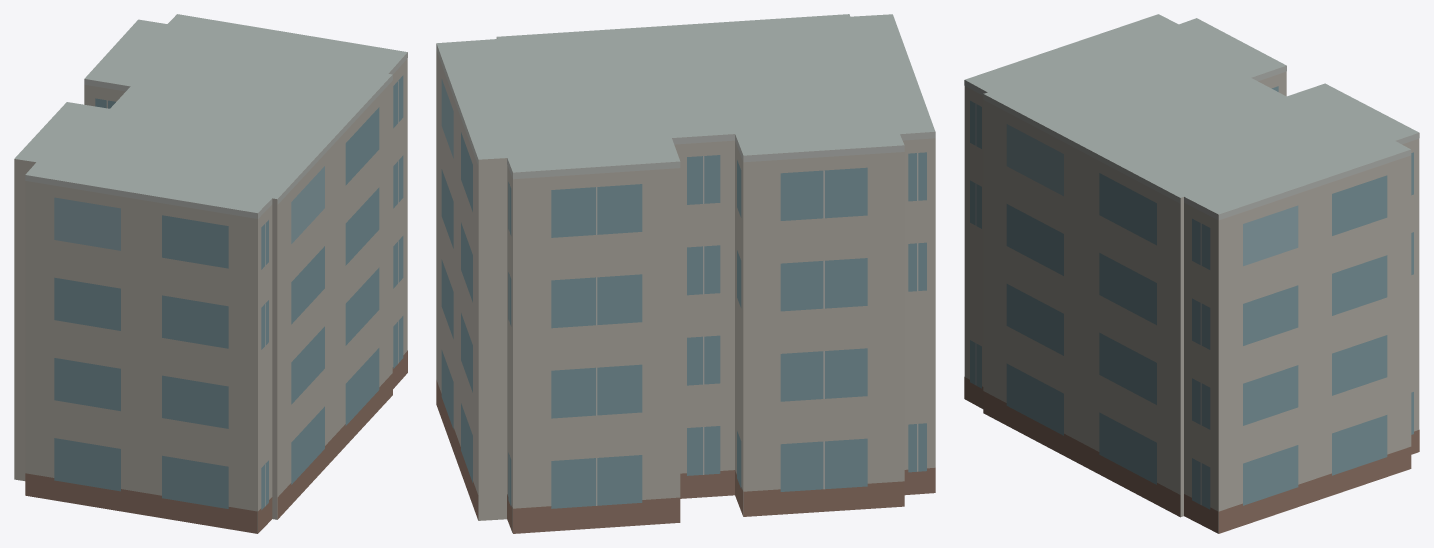
The model's file is survey-upis-32912757.glb.
3 renders of one model, left to right at view 1: azimuth 30°, elevation 25°; view 2: azimuth 150°, elevation 25°; view 3: azimuth 270°, elevation 25°, orthographic. The views are drawn at different scales.
Parts seen in each view (by area): view 1: survey-upis-32912757.tmp; view 2: survey-upis-32912757.tmp; view 3: survey-upis-32912757.tmp.
Part boxes in pixels (left/top/right/bottom): survey-upis-32912757.tmp: left=14, top=14, right=407, bottom=533; survey-upis-32912757.tmp: left=436, top=14, right=935, bottom=533; survey-upis-32912757.tmp: left=964, top=14, right=1419, bottom=533.
Bounding box in the file's own units: 17.93 × 13.3 × 17.18.
